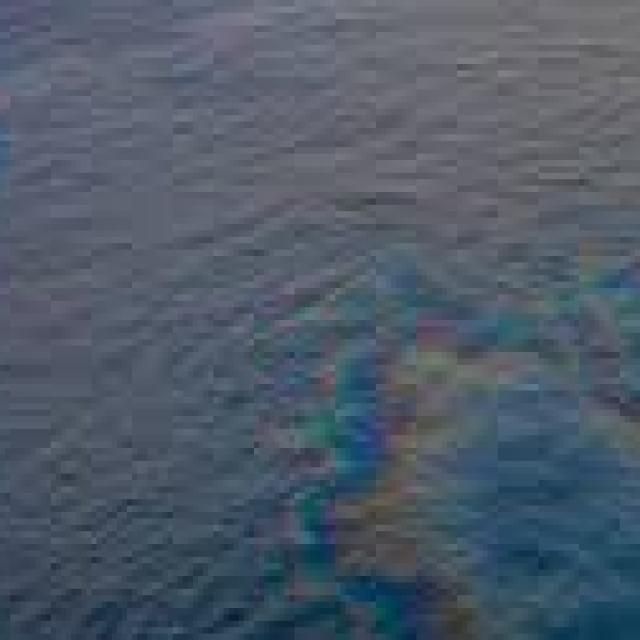-: (0, 141, 640, 640), (101, 0, 640, 435), (238, 275, 640, 640)
